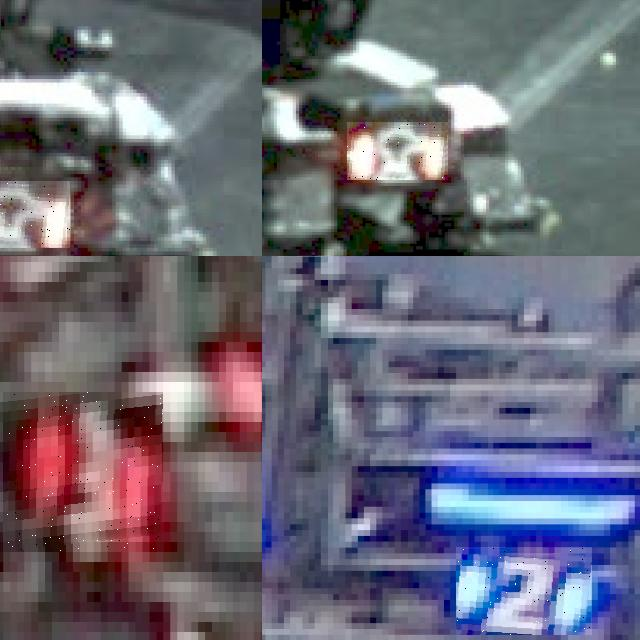B2: (456, 547, 592, 635)
R3: (3, 392, 164, 552)
Rs: (347, 122, 448, 180), (0, 181, 70, 248)
